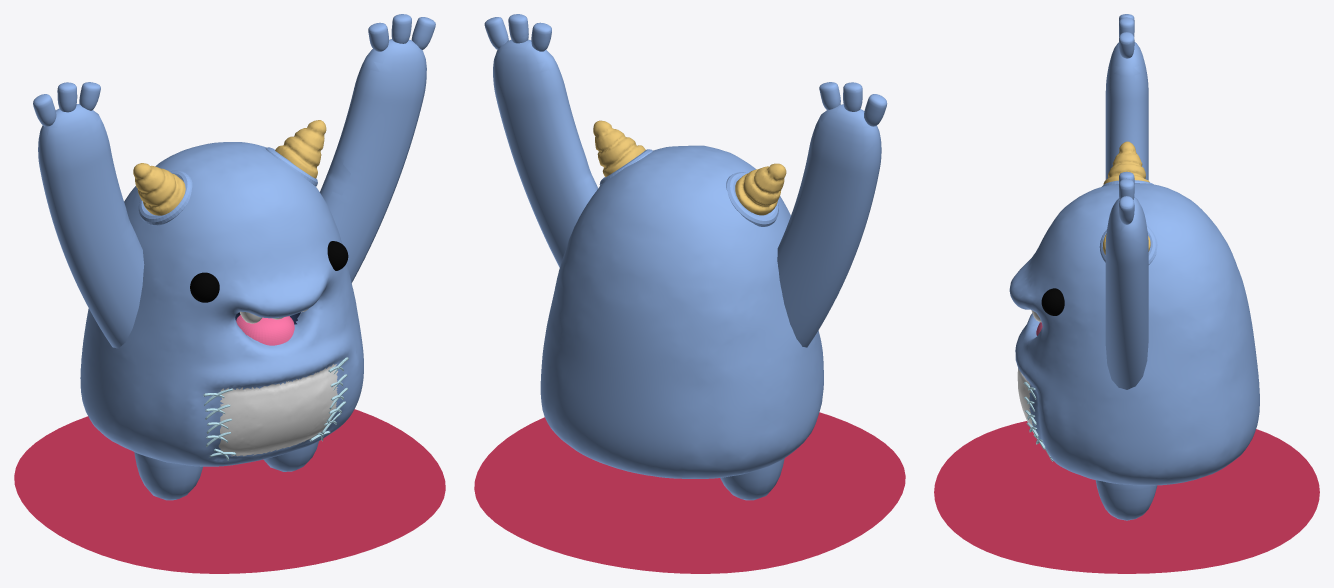
The model's file is monstruo_peluche.fbx.
3 views of the same model, side by side, from view 1: azimuth 30°, elevation 25°; view 2: azimuth 150°, elevation 25°; view 3: azimuth 270°, elevation 25° (orthographic). The views are drawn at different scales.
Parts seen in each view (by area): view 1: Cube.007, Plane; view 2: Cube.007, Plane; view 3: Cube.007, Plane.
Part boxes in pixels (x1=…): Cube.007: x1=33, y1=14, x2=435, y2=500; Plane: x1=14, y1=409, x2=445, y2=573; Cube.007: x1=484, y1=14, x2=887, y2=500; Plane: x1=474, y1=412, x2=905, y2=573; Cube.007: x1=1009, y1=14, x2=1259, y2=520; Plane: x1=934, y1=421, x2=1319, y2=573.
Bounding box in the file's own units: 104 × 109 × 95.33.
